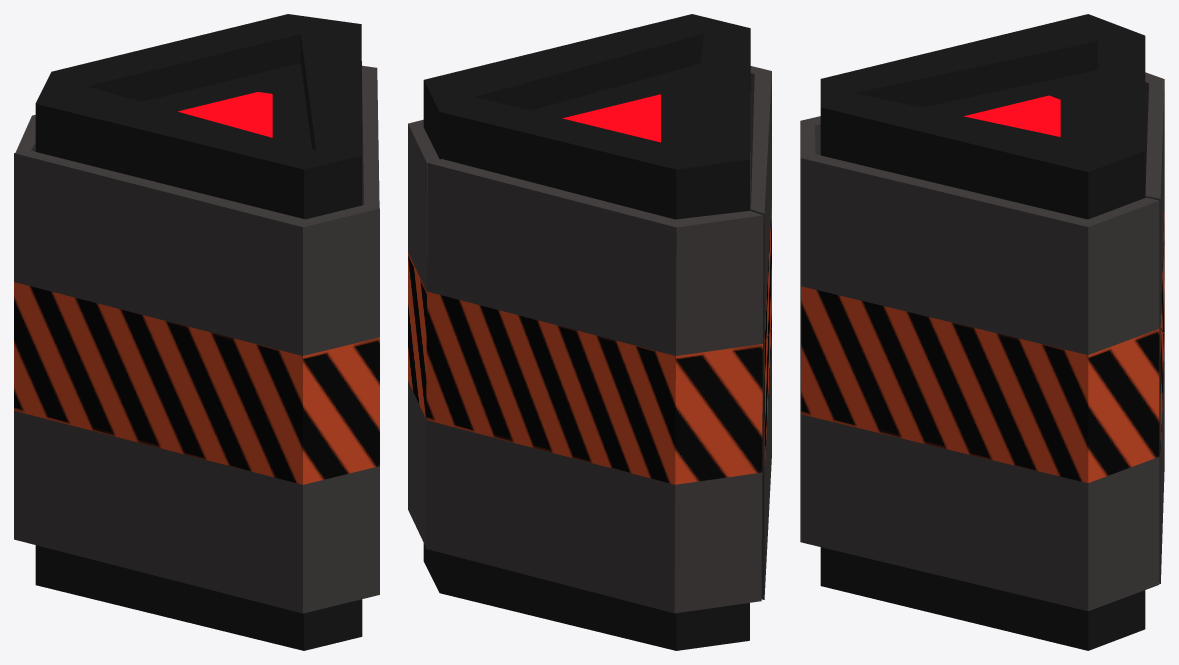
Rendered from Level_2_Cover_PowerBox.fbx.
3 views of the same model, side by side, from view 1: azimuth 30°, elevation 25°; view 2: azimuth 150°, elevation 25°; view 3: azimuth 270°, elevation 25° (orthographic).
Parts seen in each view (by area): view 1: Cell Panel.002, Cell Frame, Cell Panel; view 2: Cell Panel.001, Cell Frame, Cell Panel, Cell Panel.002; view 3: Cell Panel, Cell Frame, Cell Panel.001, Cell Panel.002.
Boxes of the visible parts, box(x1,y1,x2,y2) form: Cell Panel.002: box(14, 150, 379, 613); Cell Frame: box(35, 14, 362, 650); Cell Panel: box(362, 65, 379, 208); Cell Panel.001: box(425, 159, 763, 613); Cell Frame: box(423, 14, 750, 650); Cell Panel: box(408, 119, 439, 545); Cell Panel.002: box(750, 66, 771, 599); Cell Panel: box(801, 154, 1159, 611); Cell Frame: box(820, 14, 1145, 650); Cell Panel.001: box(1145, 72, 1164, 583); Cell Panel.002: box(800, 116, 820, 542).
Size of the model in its own units: 2.93 by 3.32 by 4.24.
